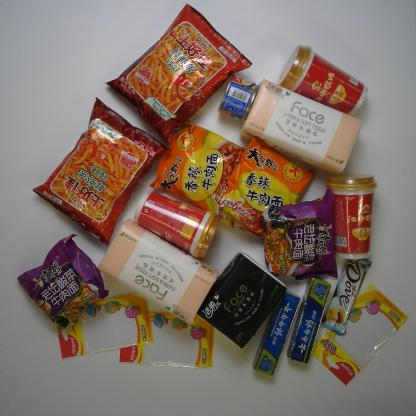Canned Food: (217, 73, 260, 122)
Chocolate: (320, 258, 372, 336)
Instant Drink: (278, 44, 369, 118), (132, 189, 222, 260), (324, 172, 378, 260)
Instant Noodles: (147, 117, 247, 229), (218, 134, 316, 240), (16, 233, 111, 330), (261, 186, 340, 282)
Personal Hygiene: (250, 290, 302, 377), (286, 275, 332, 365)
Puffed Food: (103, 2, 254, 148), (31, 95, 172, 248)
Stationery: (311, 282, 412, 387), (56, 291, 156, 361), (118, 310, 216, 368)
Tissue: (97, 217, 220, 326), (237, 77, 365, 176), (196, 250, 288, 351)
